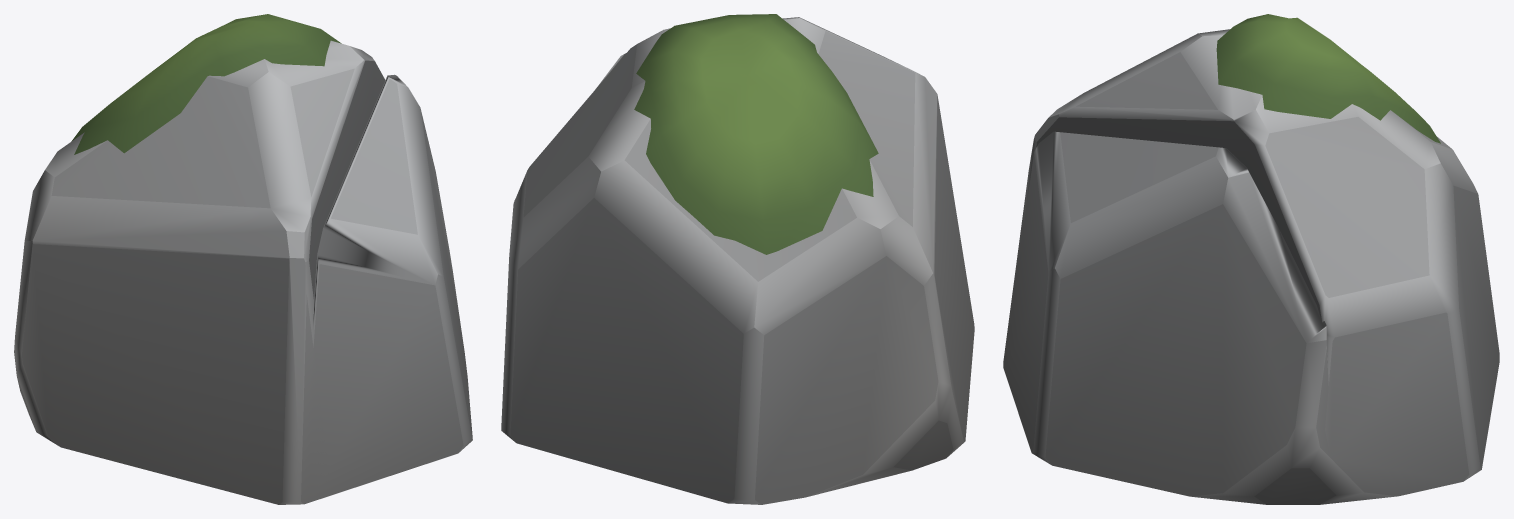
File: rock_field.glb
3 renders of one model, left to right at view 1: azimuth 30°, elevation 25°; view 2: azimuth 150°, elevation 25°; view 3: azimuth 270°, elevation 25°, orthographic. The views are drawn at different scales.
Parts seen in each view (by area): view 1: rock_field_LOD0; view 2: rock_field_LOD0; view 3: rock_field_LOD0.
Boxes of the visible parts, x1,y1,x2,y2 form: rock_field_LOD0: [14, 14, 472, 504]; rock_field_LOD0: [501, 14, 974, 504]; rock_field_LOD0: [1003, 14, 1499, 504].
Size of what is drawn, in the model's own units: 1.04 by 0.8563 by 1.02.
